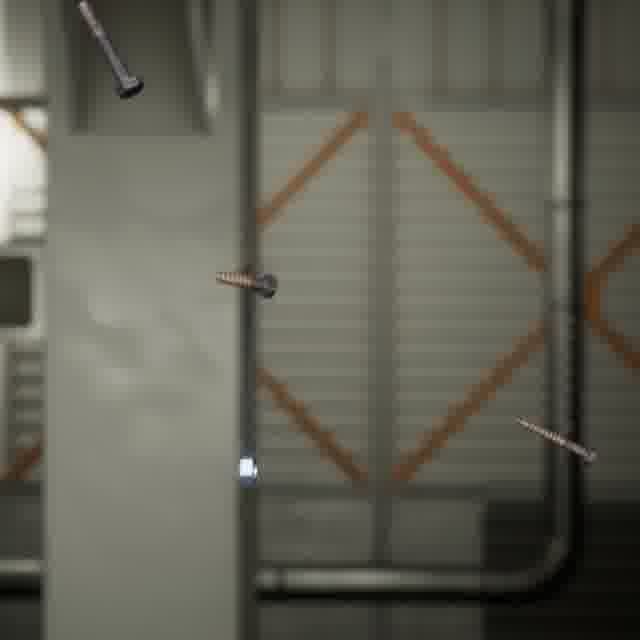bolt: (72, 0, 148, 103), (510, 413, 602, 470), (210, 266, 281, 303)
